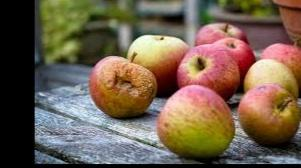rotten apple: (81, 52, 159, 122)
